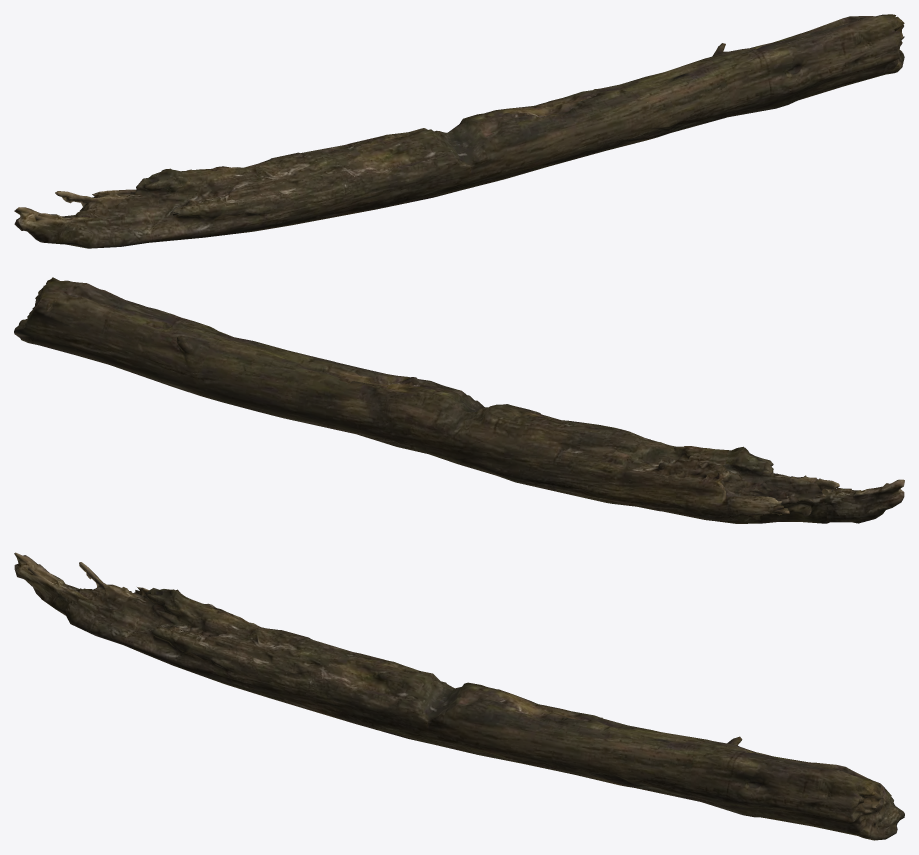
The model's file is dead_tree_trunk.glb.
3 views of the same model, one above another, from view 1: azimuth 30°, elevation 25°; view 2: azimuth 150°, elevation 25°; view 3: azimuth 330°, elevation 25° (orthographic).
Visible parts, largest first — view 1: dead_tree_trunk; view 2: dead_tree_trunk; view 3: dead_tree_trunk.
Part boxes in pixels (left/top/right/bottom): dead_tree_trunk: left=14, top=14, right=904, bottom=248; dead_tree_trunk: left=14, top=277, right=904, bottom=523; dead_tree_trunk: left=14, top=552, right=904, bottom=840.
Bounding box in the file's own units: 3.05 × 0.2898 × 0.2775.
Materials: 1 (1 with a texture image).
